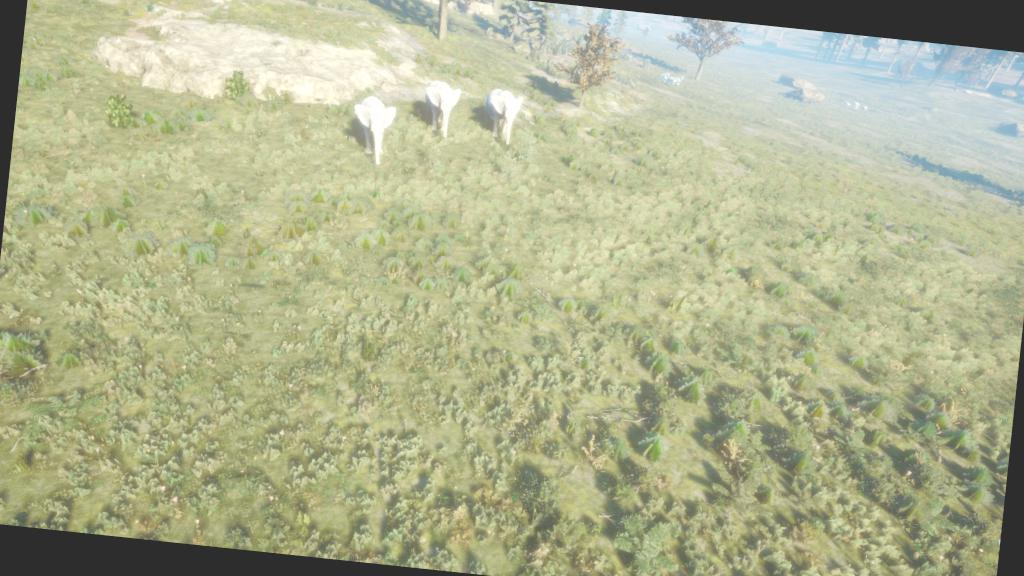elephant: (328, 82, 412, 175), (406, 66, 476, 148), (478, 76, 536, 161)
